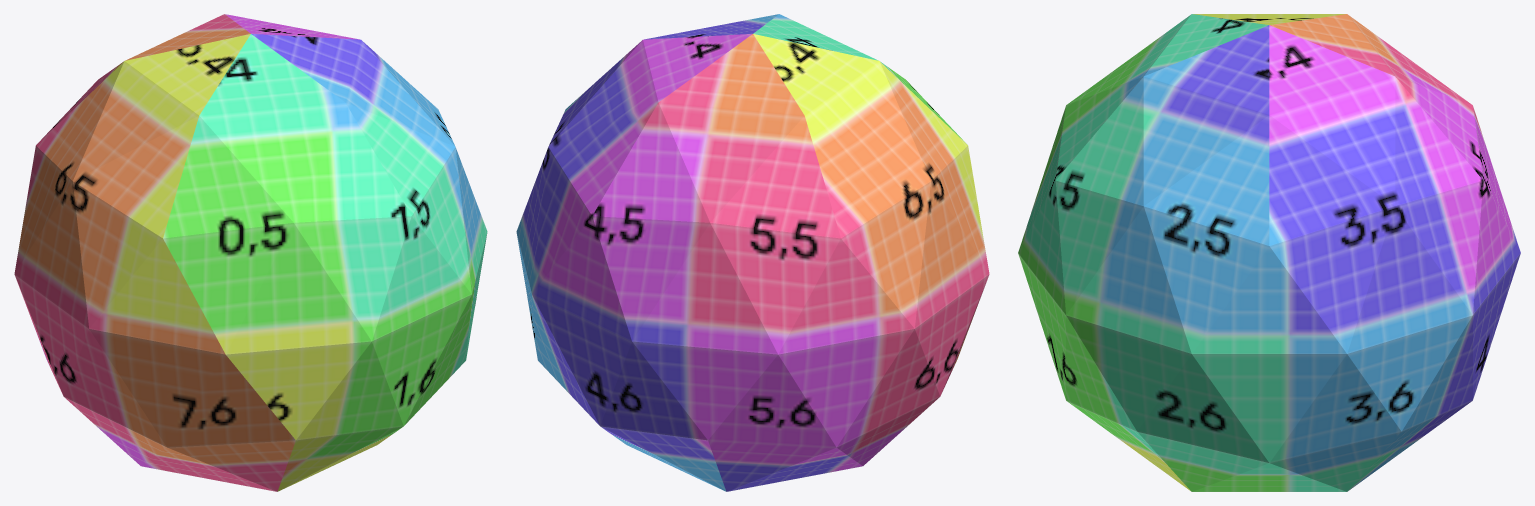
The model's file is bullet.obj.
3 renders of one model, left to right at view 1: azimuth 30°, elevation 25°; view 2: azimuth 150°, elevation 25°; view 3: azimuth 270°, elevation 25°, orthographic. The views are drawn at different scales.
Parts seen in each view (by area): view 1: ICO球; view 2: ICO球; view 3: ICO球.
Part boxes in pixels (x1,y1,x2,y2): ICO球: [14, 14, 487, 491]; ICO球: [516, 14, 989, 491]; ICO球: [1018, 14, 1520, 491].
Size of the model in its own units: 0.9511 by 1 by 1.
Materials: 1 (1 with a texture image).
